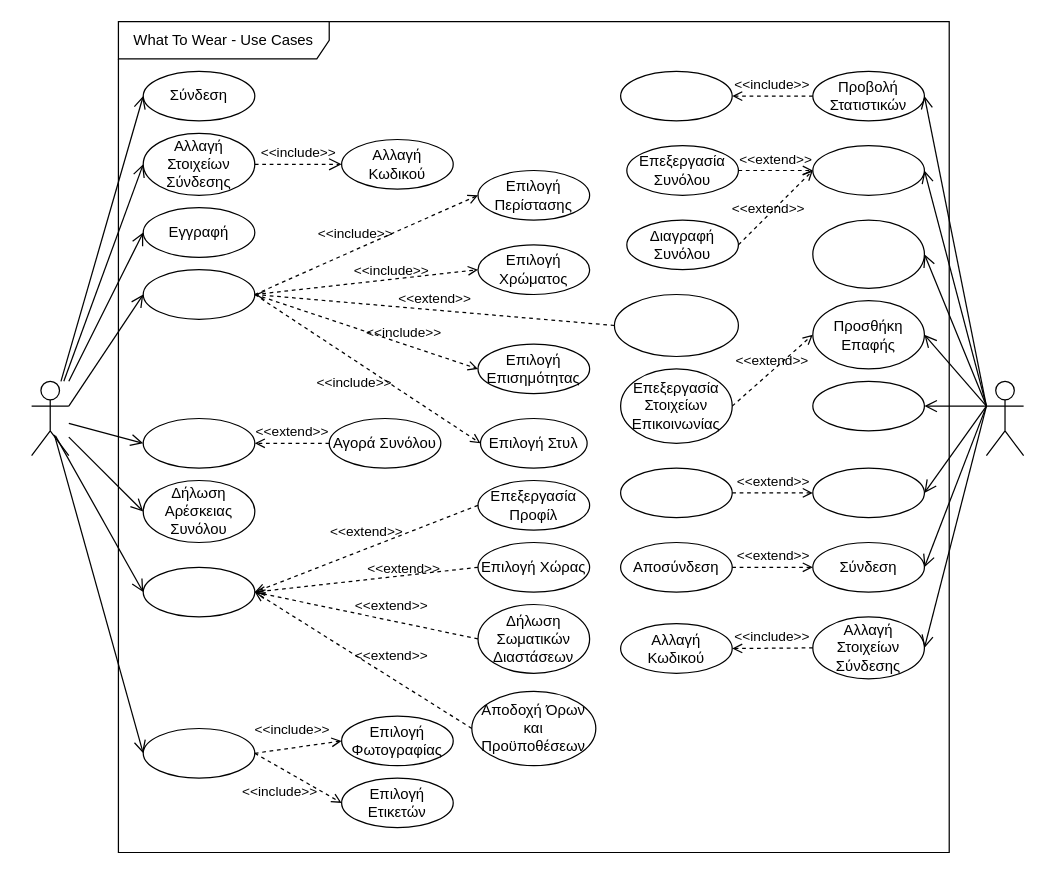
The diagram is 1063 pixels wide and 874 high, and some of its shapes have lost their labels. The centre of each missing label's shape, as x and y in pixels:
Ακύρωση Φιλτραρισματος: point 675,324
Ανέβασμα Συνόλου: point 198,752
Επεξεργασία Ρυθμίσεων: point 198,591
Επεξεργασία Ρυθμίσεων Προφίλ: point 868,253
Επιλογή Συνόλου: point 198,442
Κατάστημα: point 1004,418
Προβολή Ημερολογίου: point 868,492
Προβολή Ομάδας: point 868,405
Προσθήκη Γεγονότος: point 675,492
Προσθήκη Συνόλου: point 868,169
Φιλτράρισμα: point 198,293
Φιλτράρισμα Στατιστικών: point 675,95
Χρήστης: point 49,418
